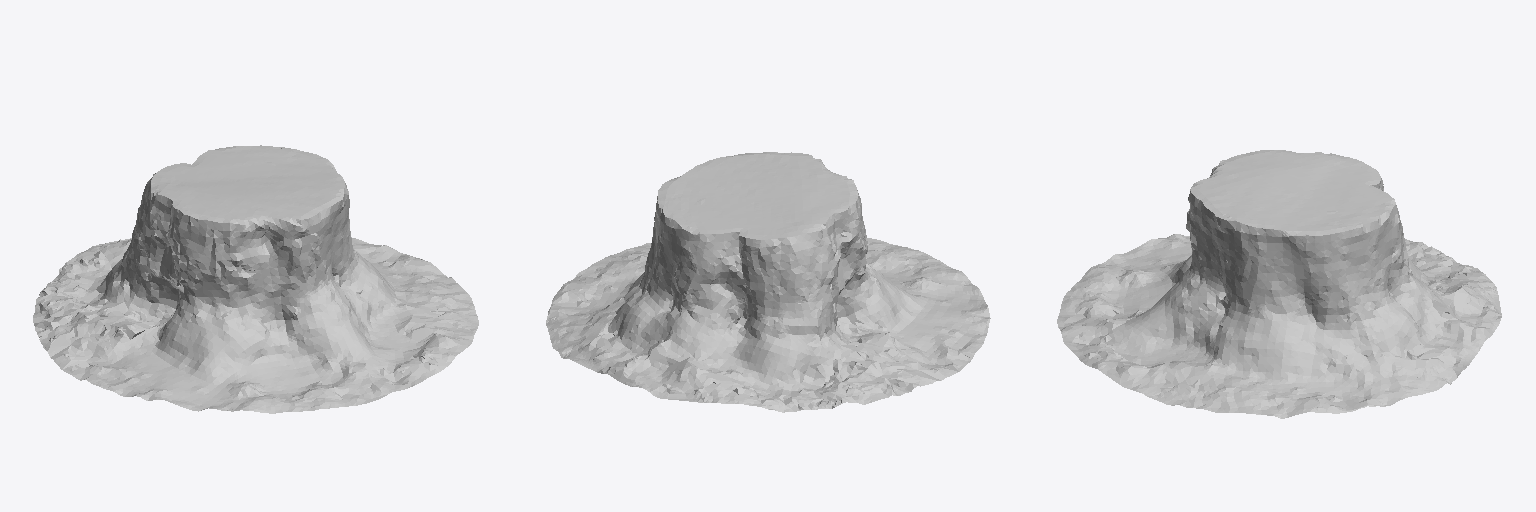
The model's file is stump.obj.
The picture shows the model from 3 angles: view 1: azimuth 30°, elevation 25°; view 2: azimuth 150°, elevation 25°; view 3: azimuth 270°, elevation 25°; orthographic projection.
Parts seen in each view (by area): view 1: Tree Stump.obj; view 2: Tree Stump.obj; view 3: Tree Stump.obj.
Boxes of the visible parts, x1=… form: Tree Stump.obj: x1=33, y1=145, x2=478, y2=413; Tree Stump.obj: x1=546, y1=152, x2=990, y2=412; Tree Stump.obj: x1=1057, y1=150, x2=1501, y2=418.
Bounding box in the file's own units: 1.99 × 0.6837 × 2.